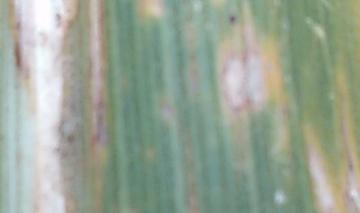tarspot: (92, 83, 107, 143), (237, 33, 250, 71), (12, 37, 23, 69), (37, 28, 48, 48), (344, 158, 356, 175), (65, 132, 78, 147), (52, 10, 62, 28), (184, 49, 198, 61), (14, 18, 22, 34), (227, 12, 236, 25)
